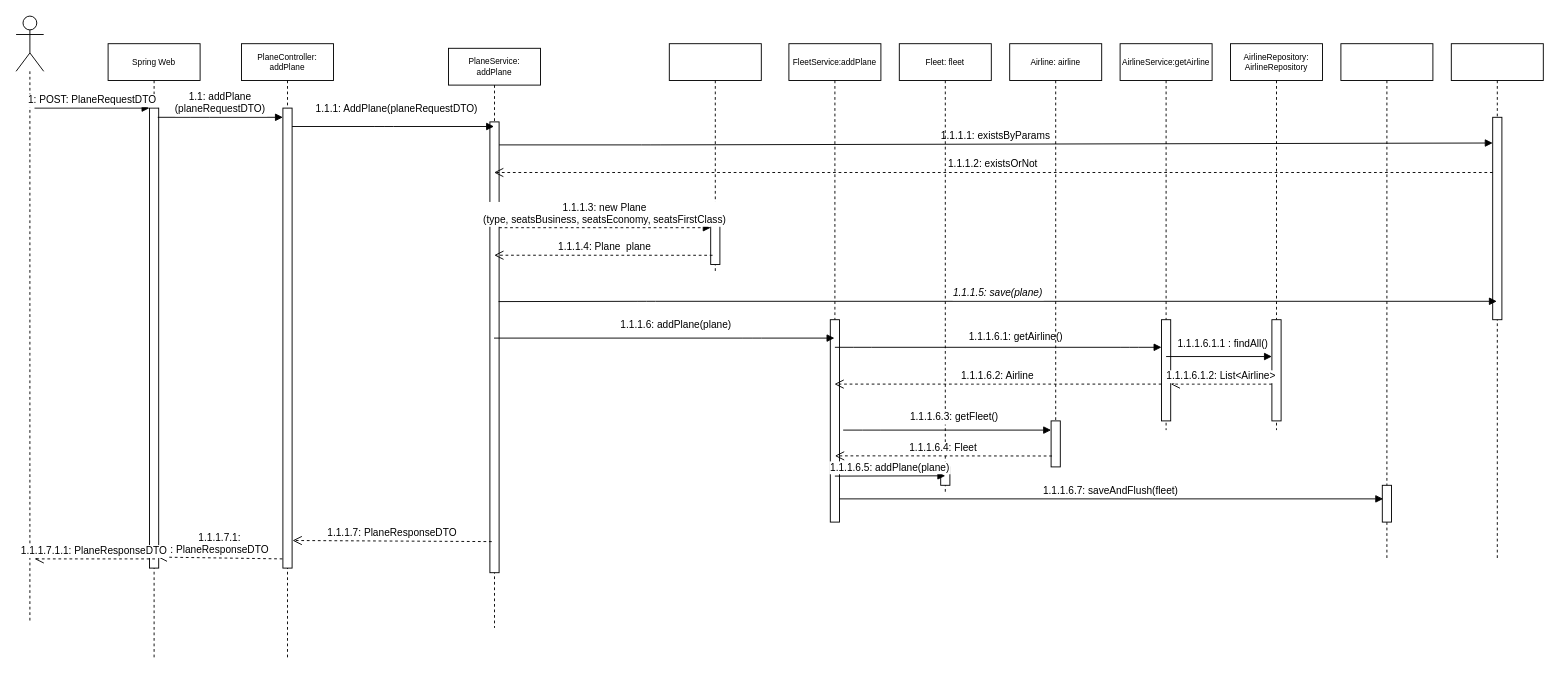
This 1559x676 diagram has some shape labels left out. Each missing label, with the box of its shape:
Actor: (15, 15, 44, 71)
FleetRepository: FleetRepository: (1340, 43, 1433, 559)
Plane: Plane: (668, 43, 761, 274)
PlaneRepository: PlaneRepository: (1450, 43, 1543, 559)
